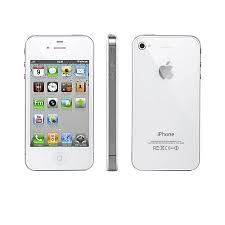iphone: (23, 31, 97, 173), (129, 31, 203, 173)
iphone4: (23, 32, 97, 174), (129, 31, 203, 173)
